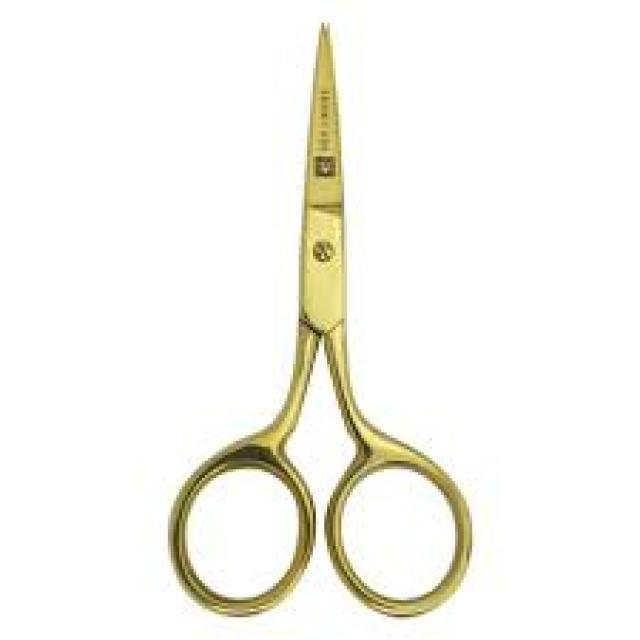scissor: (165, 23, 478, 619)
